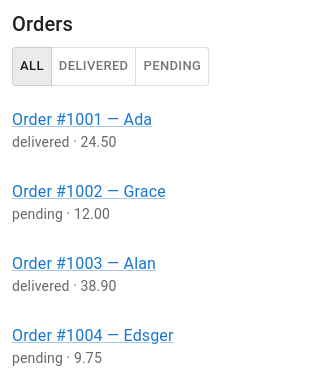
Scenario: OrderList › filters when a toggle is clicked
This screenshot has width=332, height=383.
Step 1. Click the button "Delivered" → point(94, 66), box [51,47,136,86]
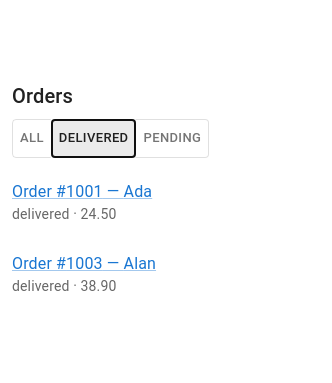
Expected: the link "Order #1001 — Ada" is shown, [12,182,152,201]
Result: the link "Order #1002" is gone
